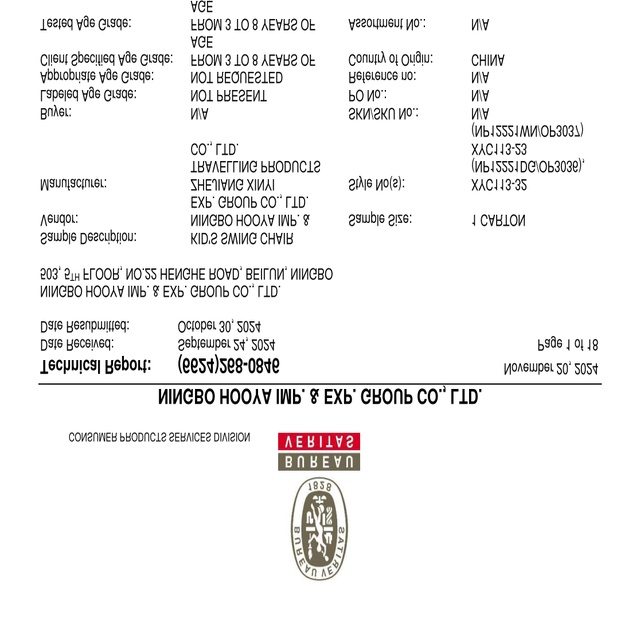bureau_veritas: (277, 430, 361, 582)
